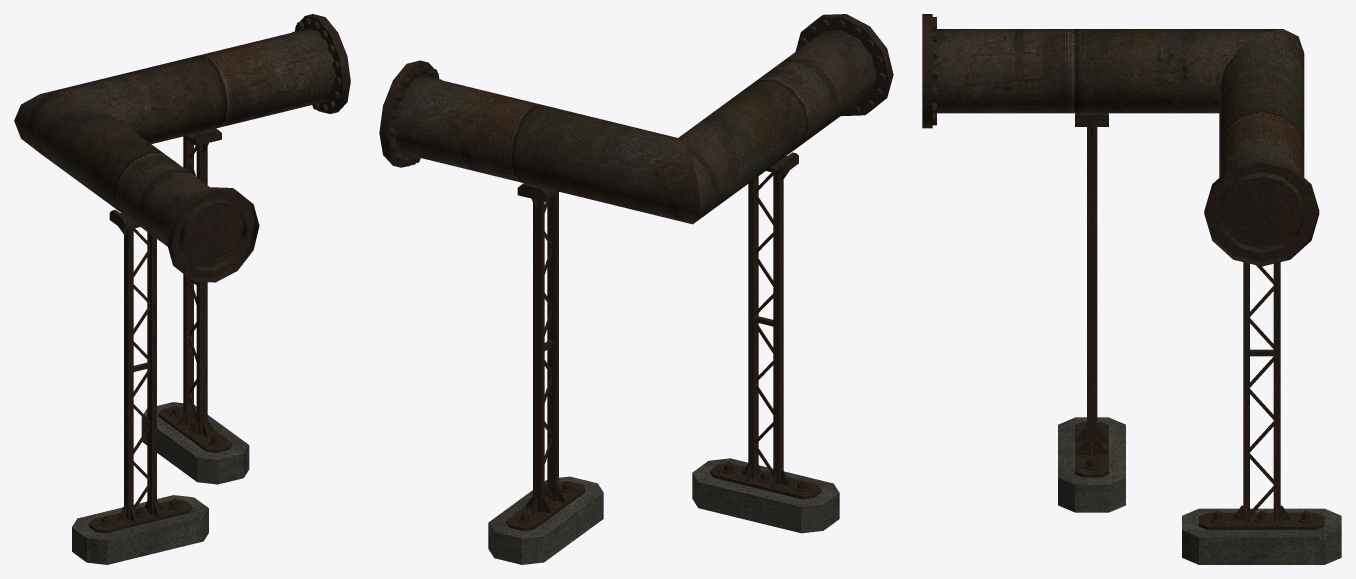
Rendered from pipe_cx_3.glb.
The picture shows the model from 3 angles, left to right: view 1: azimuth 30°, elevation 25°; view 2: azimuth 150°, elevation 25°; view 3: azimuth 270°, elevation 25°; orthographic projection. The views are drawn at different scales.
Parts seen in each view (by area): view 1: pipe_cx_3; view 2: pipe_cx_3; view 3: pipe_cx_3.
Boxes of the visible parts, box(x1,y1,x2,y2) form: pipe_cx_3: box(14, 14, 350, 564); pipe_cx_3: box(379, 14, 893, 564); pipe_cx_3: box(922, 14, 1341, 564).
Size of the model in its own units: 2.47 by 2.99 by 2.47.
3 materials, 3 textured.
